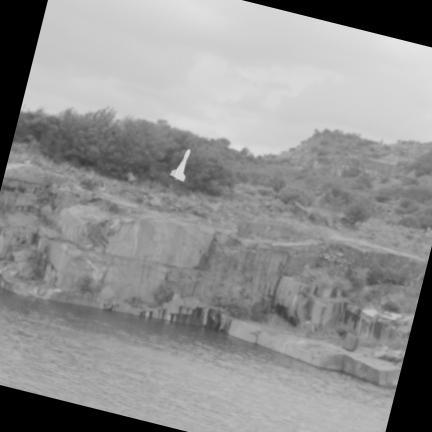Shahed: (169, 149, 189, 181)
